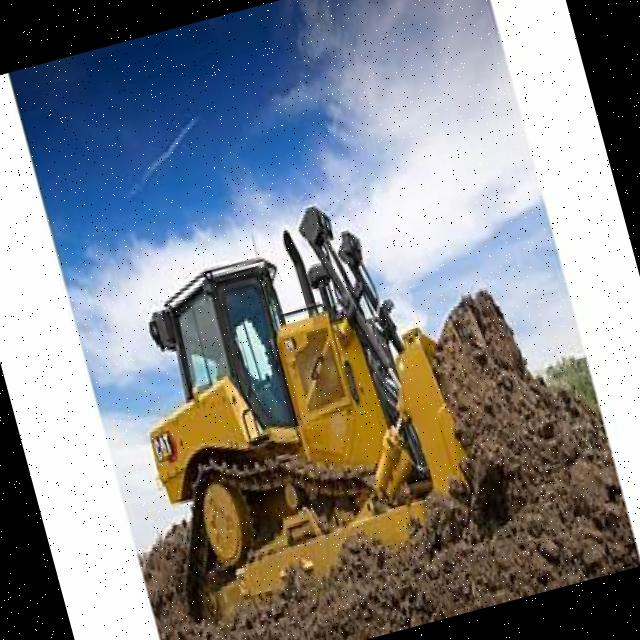Bulldozer: (63, 161, 535, 640)
